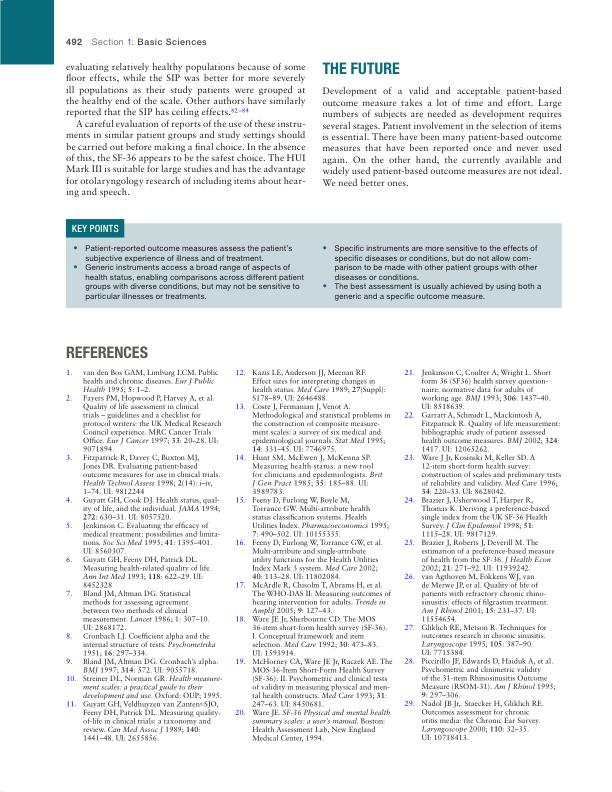header: (91, 37, 208, 47)
list: (233, 367, 394, 743), (64, 368, 224, 743), (403, 368, 562, 743), (72, 244, 307, 303), (320, 243, 542, 303)
section-heading: (321, 60, 402, 77), (65, 345, 150, 360)
text: (64, 61, 307, 199), (320, 85, 564, 188)
